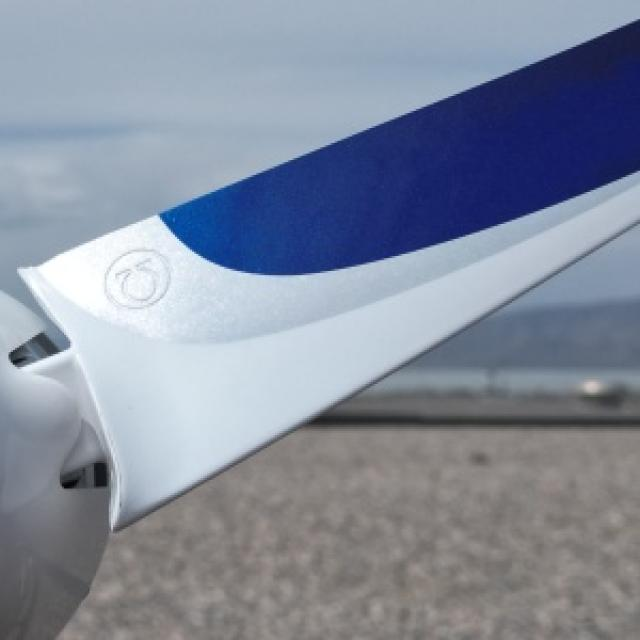healthy: (58, 422, 638, 638)
